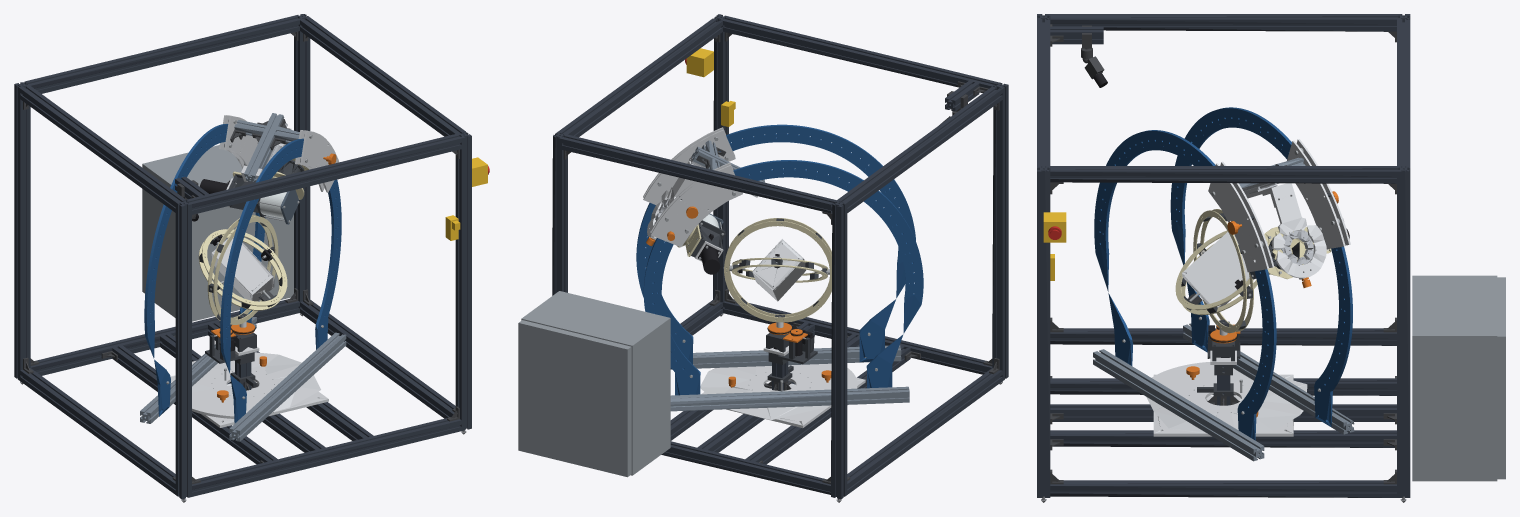
The model's file is bench-rig.glb.
3 views of the same model, side by side, from view 1: azimuth 30°, elevation 25°; view 2: azimuth 150°, elevation 25°; view 3: azimuth 270°, elevation 25° (orthographic). The views are drawn at different scales.
Visible parts, largest first — view 1: static|frame|Aluminium 6061-T6 charcoal, static|frame|ABS grey, static|angle|Aluminium 6061-T6 blue, static|angle|Aluminium 6061-T6 natural, static|angle|Aluminium 6061-T6 grey, gbox|tumble|Aluminium 6061-T6 natural, gmid|tumble|G10/FR4 beige, static|gap|Aluminium 6061-T6 grey, gout|tumble|G10/FR4 beige, static|frame|Metal charcoal, static|frame|ABS yellow, static|tumble|ASA charcoal (+1 smaller); view 2: static|frame|Aluminium 6061-T6 charcoal, static|frame|ABS grey, static|angle|Aluminium 6061-T6 blue, static|angle|Aluminium 6061-T6 natural, static|angle|Aluminium 6061-T6 grey, gout|tumble|G10/FR4 beige, gbox|tumble|Aluminium 6061-T6 natural, static|frame|Metal charcoal, static|frame|ABS yellow, gmid|tumble|G10/FR4 beige, static|tumble|ASA charcoal, static|gap|Aluminium 6061-T6 grey (+1 smaller); view 3: static|frame|Aluminium 6061-T6 charcoal, static|frame|ABS grey, static|angle|Aluminium 6061-T6 blue, static|angle|Aluminium 6061-T6 natural, static|angle|Aluminium 6061-T6 grey, gbox|tumble|Aluminium 6061-T6 natural, gout|tumble|G10/FR4 beige, static|frame|Metal charcoal, gmid|tumble|G10/FR4 beige, static|track|Aluminium 6061-T6 charcoal, static|frame|ABS yellow, static|track|Metal charcoal (+2 smaller).
Boxes of the visible parts, x1,y1,x2,y2 form: static|frame|Aluminium 6061-T6 charcoal: (14, 14, 471, 499); static|frame|ABS grey: (142, 145, 293, 321); static|angle|Aluminium 6061-T6 blue: (144, 124, 341, 423); static|angle|Aluminium 6061-T6 natural: (170, 115, 338, 427); static|angle|Aluminium 6061-T6 grey: (140, 317, 346, 441); gbox|tumble|Aluminium 6061-T6 natural: (211, 237, 274, 301); gmid|tumble|G10/FR4 beige: (198, 229, 287, 310); static|gap|Aluminium 6061-T6 grey: (234, 113, 299, 182); gout|tumble|G10/FR4 beige: (207, 215, 278, 324); static|frame|Metal charcoal: (23, 31, 459, 484); static|frame|ABS yellow: (445, 157, 487, 240); static|tumble|ASA charcoal: (205, 335, 254, 364); static|frame|Aluminium 6061-T6 charcoal: (552, 14, 1008, 499); static|frame|ABS grey: (518, 291, 670, 477); static|angle|Aluminium 6061-T6 blue: (636, 124, 923, 395); static|angle|Aluminium 6061-T6 natural: (643, 127, 865, 428); static|angle|Aluminium 6061-T6 grey: (670, 345, 909, 411); gout|tumble|G10/FR4 beige: (724, 218, 831, 322); gbox|tumble|Aluminium 6061-T6 natural: (752, 239, 806, 301); static|frame|Metal charcoal: (563, 32, 999, 484); static|frame|ABS yellow: (686, 48, 735, 126); gmid|tumble|G10/FR4 beige: (731, 257, 828, 282); static|tumble|ASA charcoal: (768, 336, 817, 364); static|gap|Aluminium 6061-T6 grey: (691, 140, 764, 182); static|frame|Aluminium 6061-T6 charcoal: (1037, 14, 1410, 497); static|frame|ABS grey: (1412, 275, 1505, 481); static|angle|Aluminium 6061-T6 blue: (1094, 107, 1352, 440); static|angle|Aluminium 6061-T6 natural: (1146, 139, 1350, 436); static|angle|Aluminium 6061-T6 grey: (1093, 323, 1354, 461); gbox|tumble|Aluminium 6061-T6 natural: (1182, 232, 1249, 307); gout|tumble|G10/FR4 beige: (1193, 209, 1253, 333); static|frame|Metal charcoal: (1050, 31, 1396, 484); gmid|tumble|G10/FR4 beige: (1175, 230, 1257, 315); static|track|Aluminium 6061-T6 charcoal: (1050, 26, 1103, 44); static|frame|ABS yellow: (1043, 212, 1066, 280); static|track|Metal charcoal: (1050, 24, 1104, 79).
Size of the model in its own units: 1.21 by 1.11 by 1.41.
